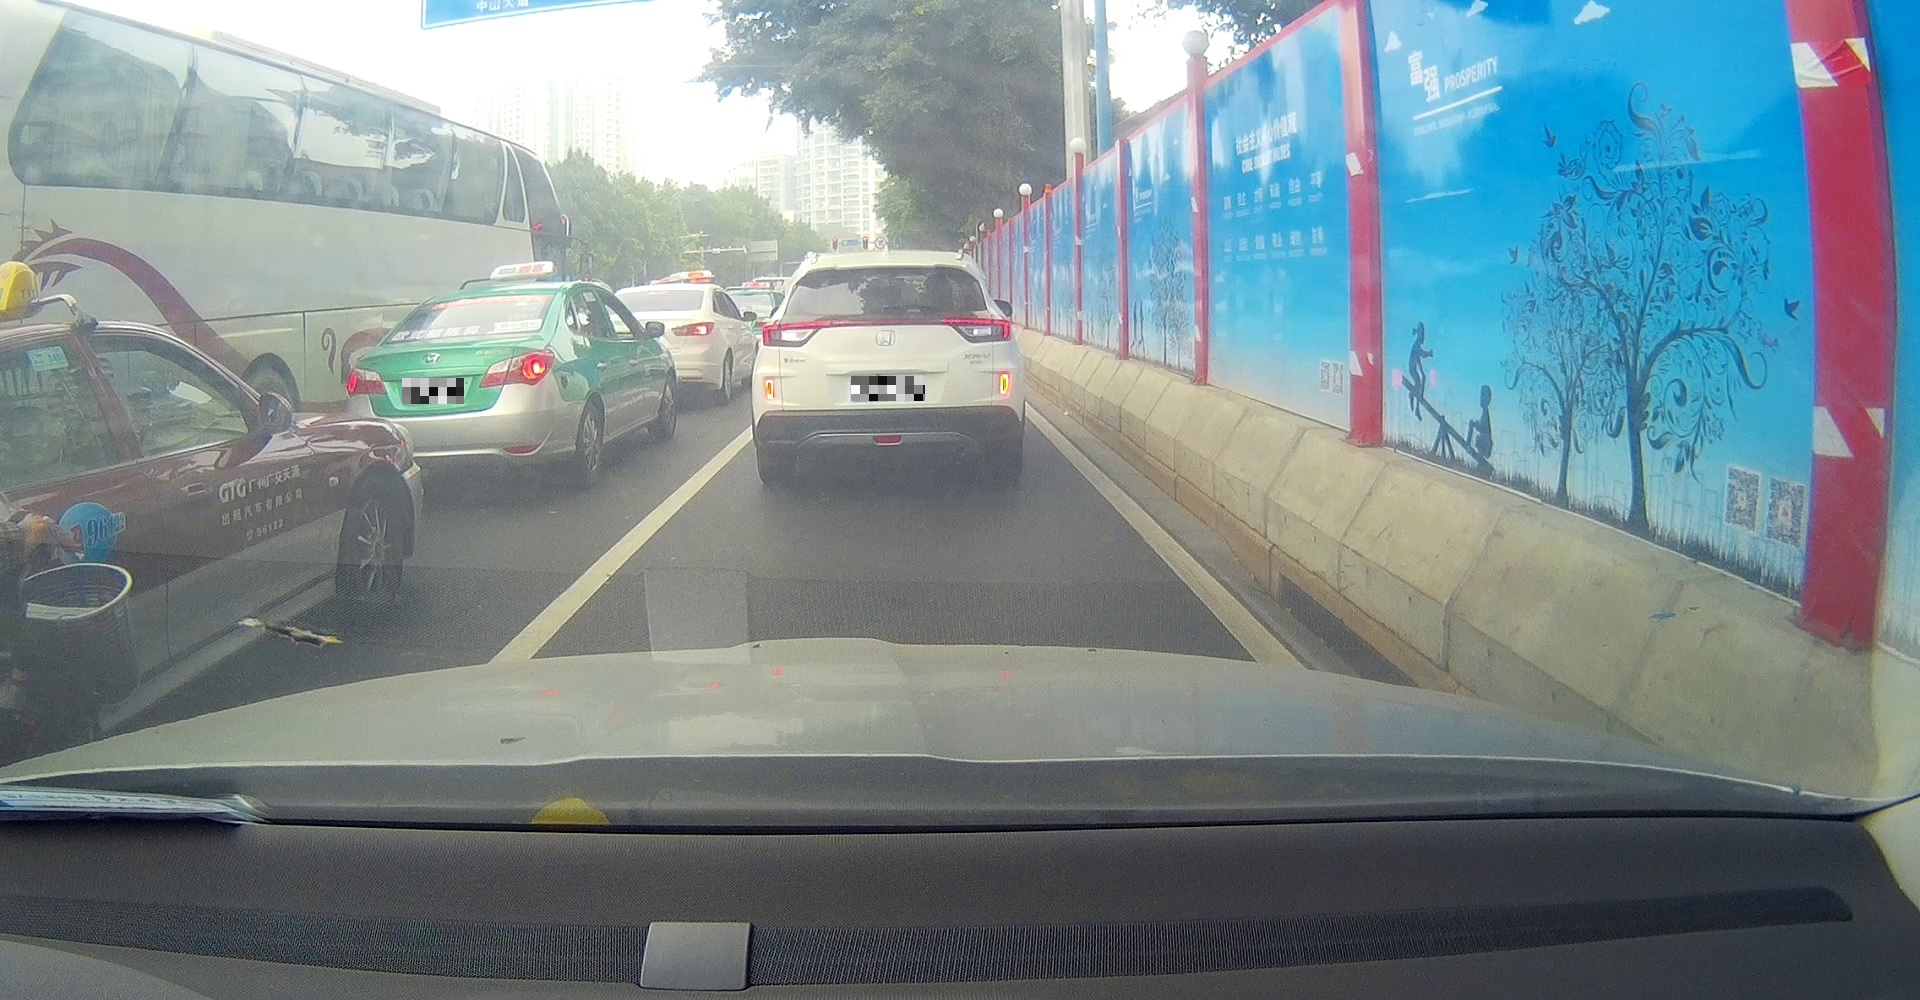L_light: (762, 320, 830, 348), (345, 369, 389, 396)
R_light: (479, 350, 554, 388), (941, 319, 1010, 341)
T_light: (852, 317, 917, 327), (469, 296, 499, 305)
day-brake: (750, 250, 1025, 485), (345, 280, 557, 489)
plate_1: (403, 378, 463, 404)
plate_2: (851, 376, 924, 401)
